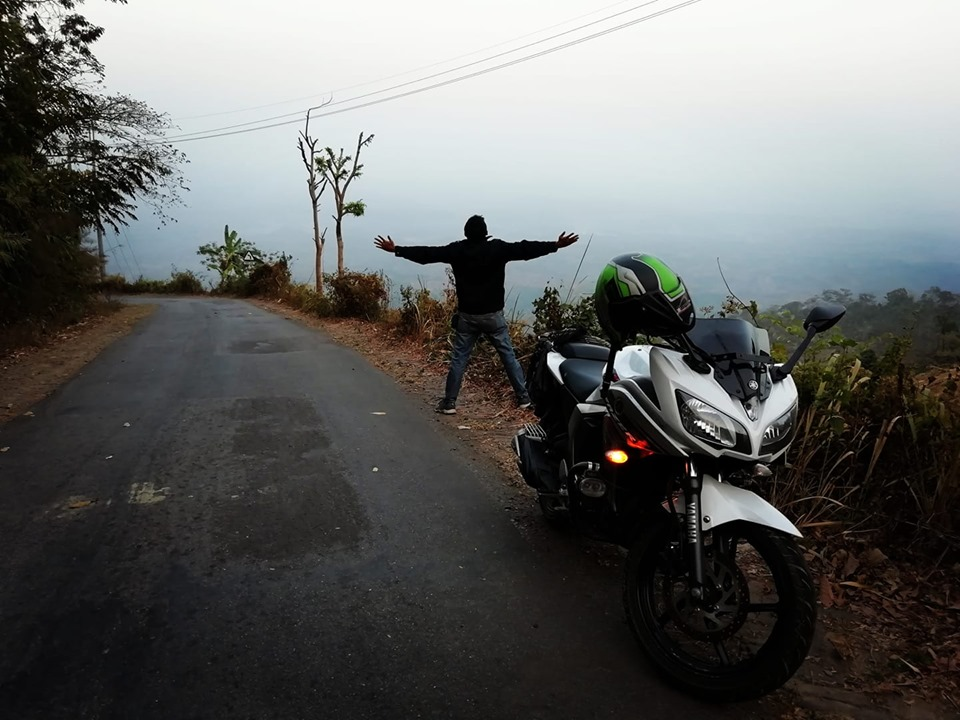bike: (510, 290, 852, 708)
